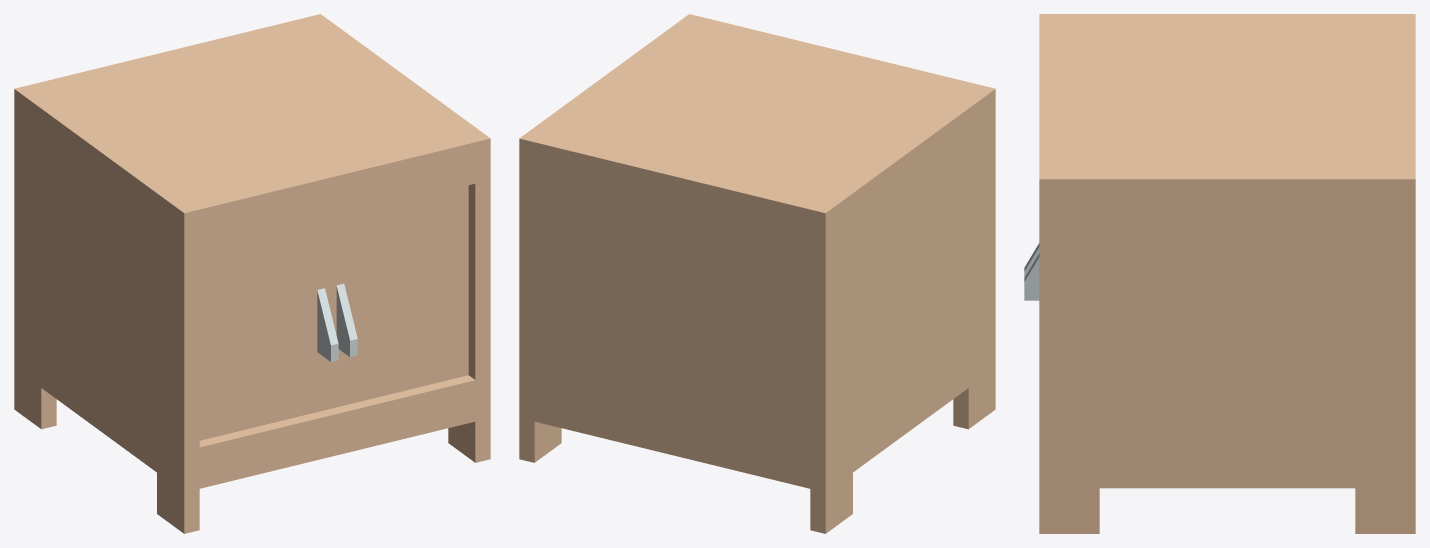
File: kn-cabinet-television-doors.glb
3 renders of one model, left to right at view 1: azimuth 30°, elevation 25°; view 2: azimuth 150°, elevation 25°; view 3: azimuth 270°, elevation 25°, orthographic. The views are drawn at different scales.
Parts seen in each view (by area): view 1: cabinetTelevisionDoors(Clone), doorLeft; view 2: cabinetTelevisionDoors(Clone); view 3: cabinetTelevisionDoors(Clone), doorLeft.
Part boxes in pixels (left/top/right/bottom): cabinetTelevisionDoors(Clone): left=14, top=14, right=490, bottom=533; doorLeft: left=317, top=283, right=357, bottom=361; cabinetTelevisionDoors(Clone): left=519, top=14, right=995, bottom=533; cabinetTelevisionDoors(Clone): left=1039, top=14, right=1415, bottom=533; doorLeft: left=1024, top=243, right=1039, bottom=300.
Size of the model in its own units: 1 by 1 by 1.
